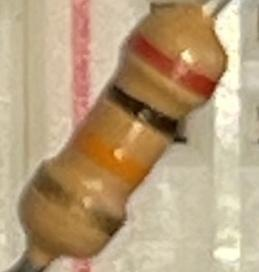Black: (99, 77, 189, 142)
Orange: (69, 122, 153, 191)
Red: (118, 28, 220, 105)
Side-Gold: (26, 157, 129, 241)
